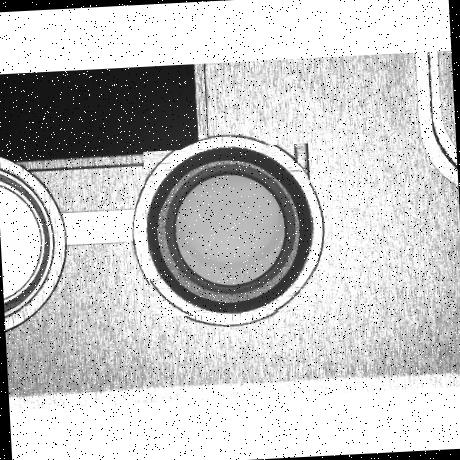Hole: (143, 143, 317, 317)
